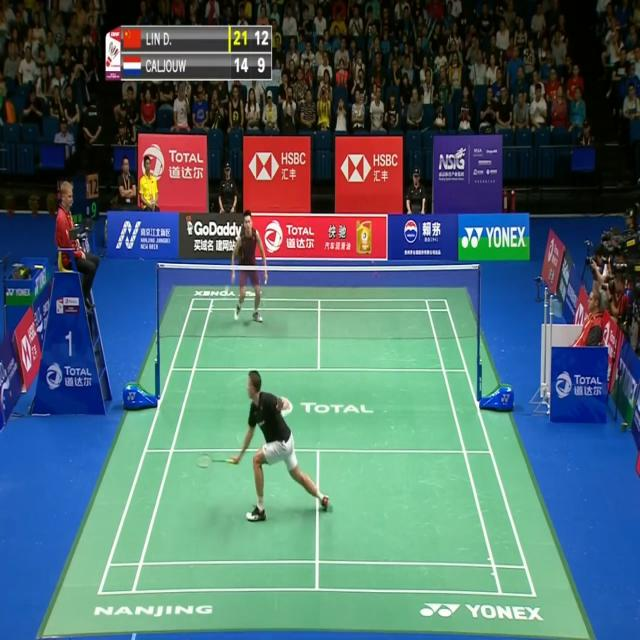Player1: (194, 361, 336, 526)
Player2: (222, 208, 272, 329)
